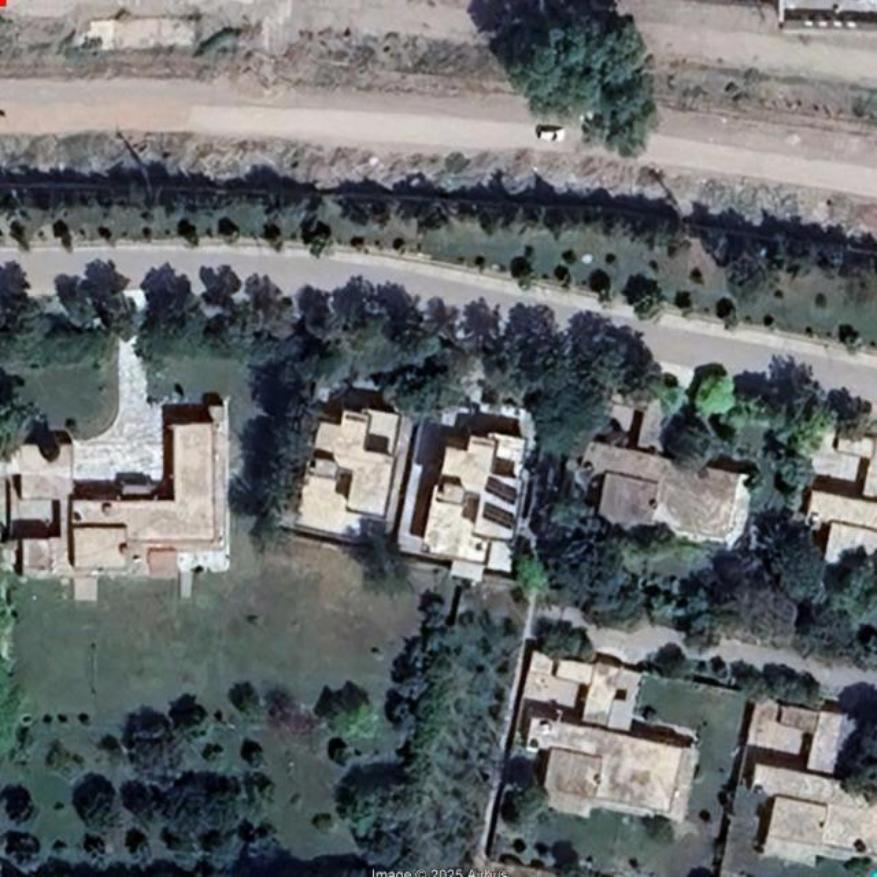Solarpanel: (482, 477, 516, 502), (485, 500, 517, 526)
